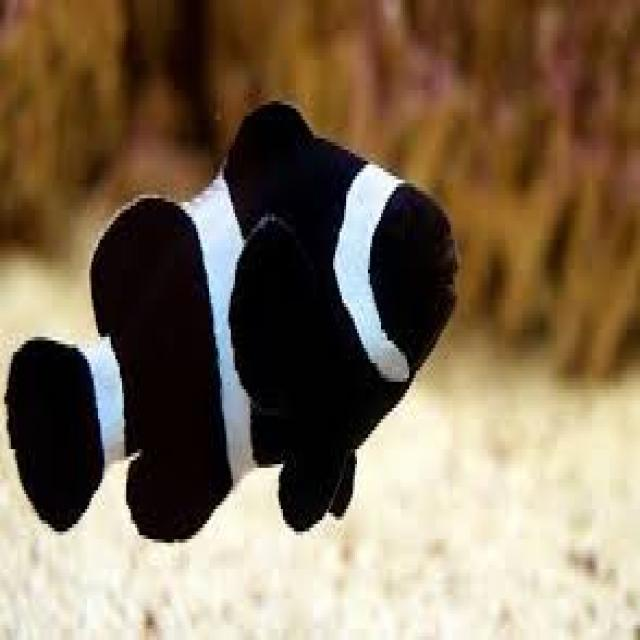ClownFish: (11, 106, 460, 537)
